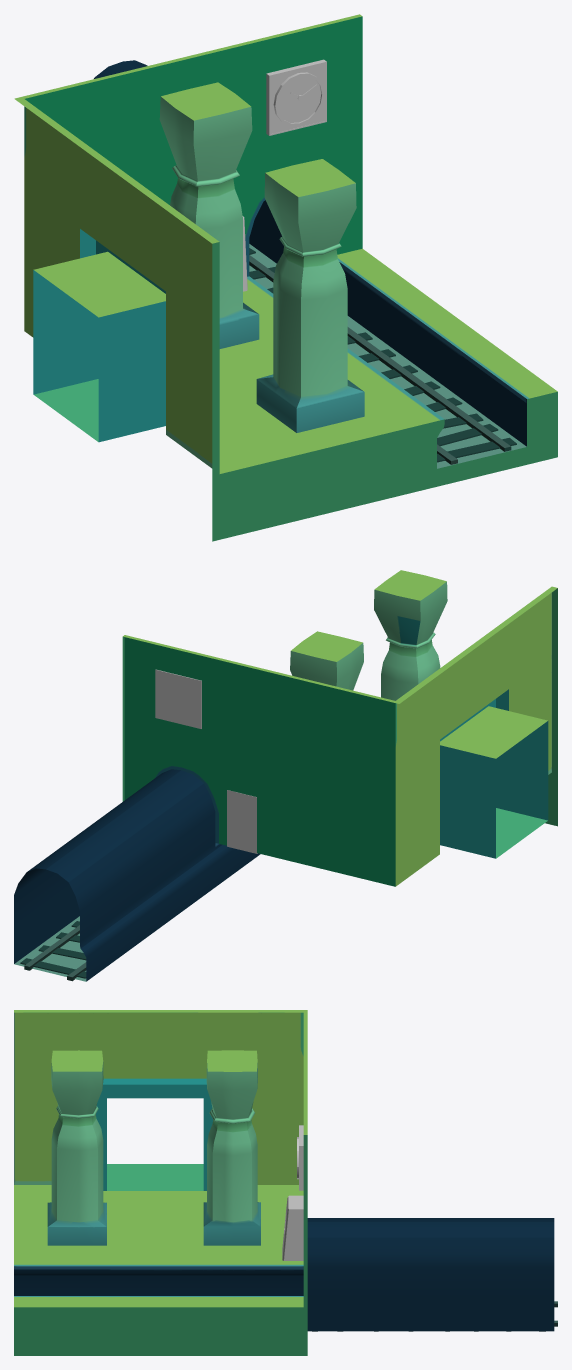
Rendered from station 2.fbx.
3 views of the same model, one above another, from view 1: azimuth 30°, elevation 25°; view 2: azimuth 150°, elevation 25°; view 3: azimuth 270°, elevation 25° (orthographic). The views are drawn at different scales.
Parts seen in each view (by area): view 1: env_2, track_2, pCylinder7; view 2: env_2, pCylinder7, ticket_machine, track_2; view 3: env_2, ticket_machine.
Part boxes in pixels (<box>): env_2: <box>14,14,557,541</box>; track_2: <box>249,248,516,464</box>; pCylinder7: <box>266,59,326,135</box>; env_2: <box>14,570,557,981</box>; pCylinder7: <box>155,669,201,728</box>; ticket_machine: <box>227,790,257,853</box>; track_2: <box>20,921,86,981</box>; env_2: <box>14,1010,554,1355</box>; ticket_machine: <box>282,1195,303,1260</box>.
Size of the model in its own units: 23.18 by 16.64 by 37.17.
